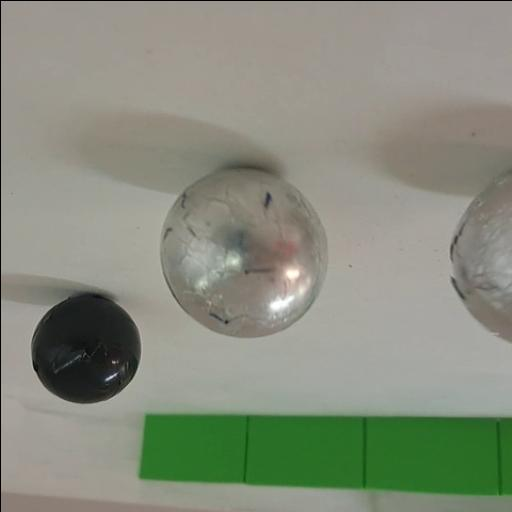alive: (160, 164, 328, 336), (446, 161, 512, 347)
dead: (31, 293, 141, 403)
